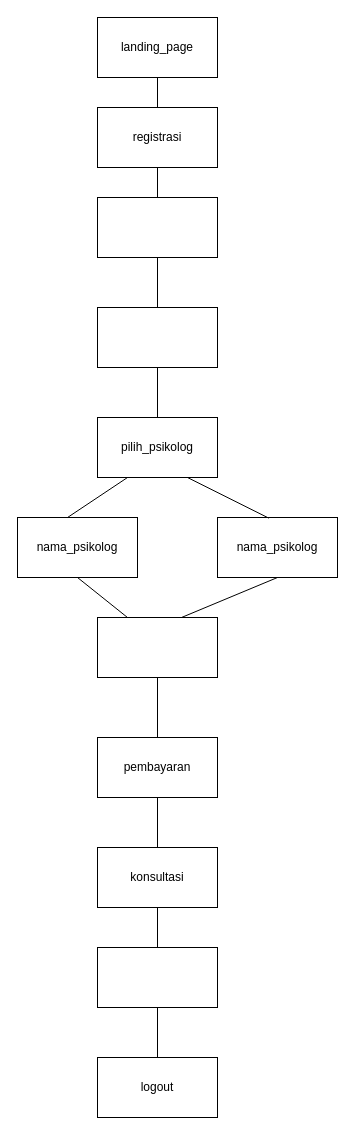
Image size: 355x1135. Some labels were removed from this diagram. Each missing label, with the centre of its shape:
booking_jadwal: the point at 157,647
dashboard: the point at 157,337
login: the point at 157,227
riwayat: the point at 157,977
